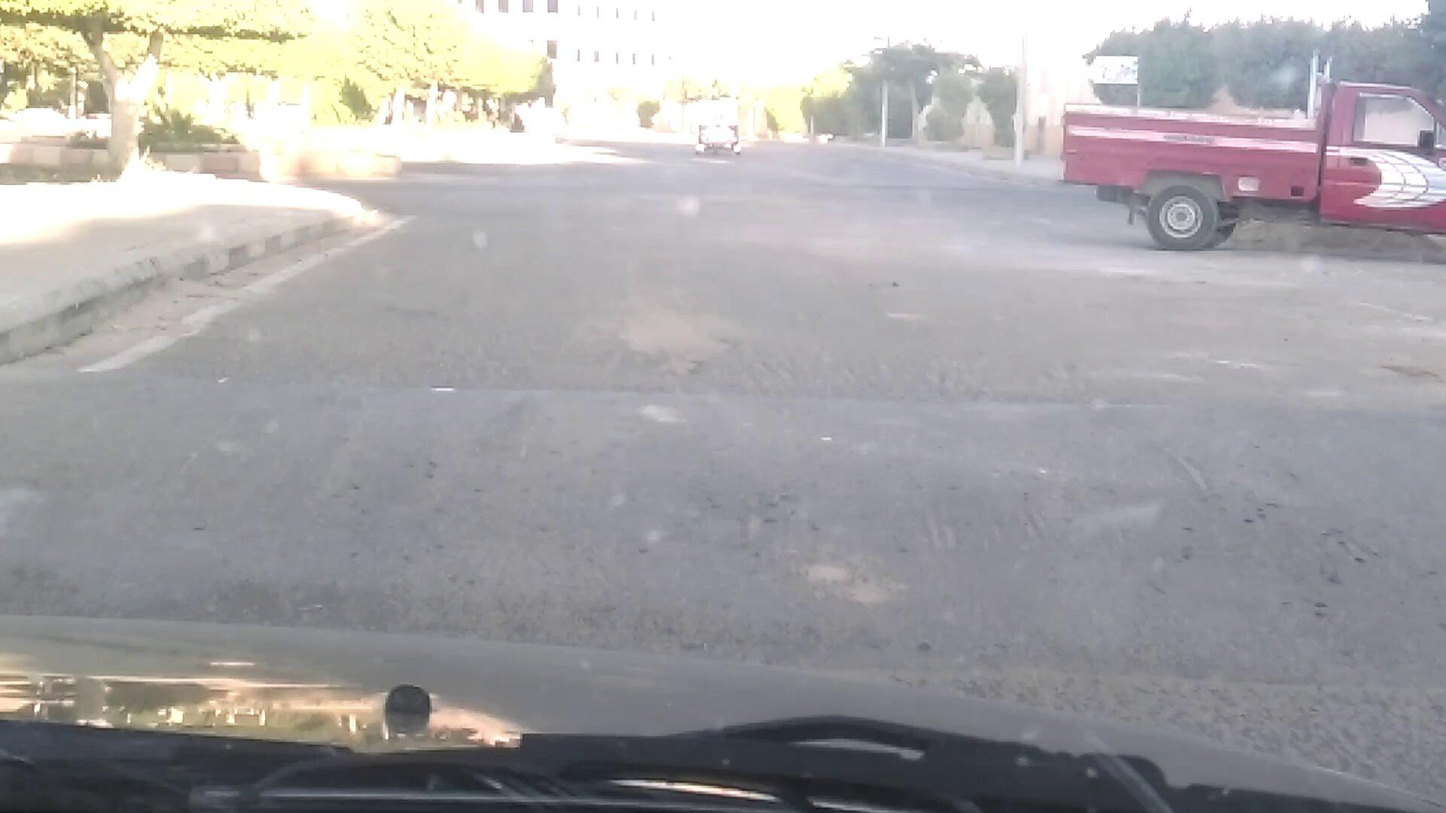Bump: (0, 358, 1440, 668)
